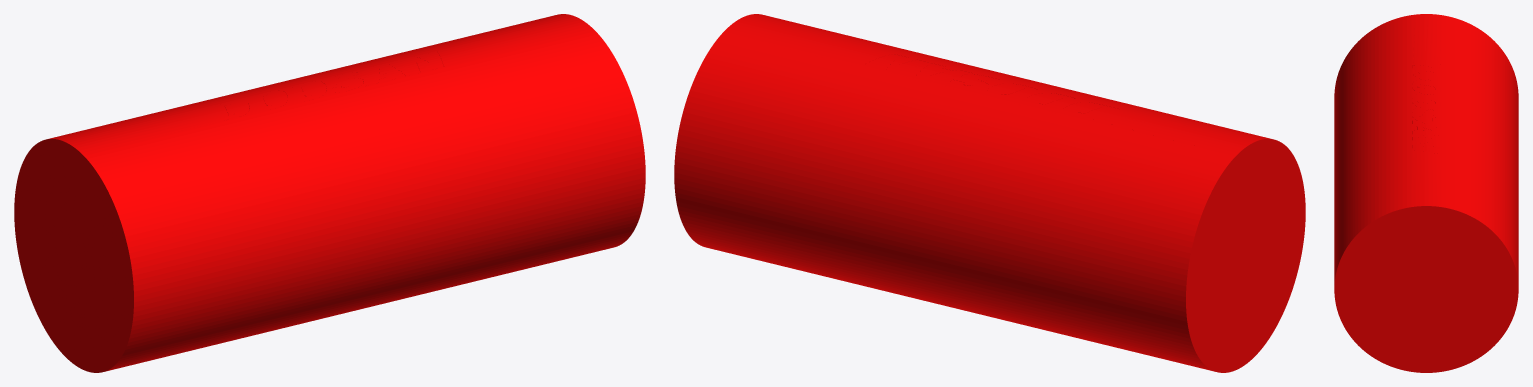
3 renders of one model, left to right at view 1: azimuth 30°, elevation 25°; view 2: azimuth 150°, elevation 25°; view 3: azimuth 270°, elevation 25°, orthographic. The views are drawn at different scales.
Visible parts, largest first — view 1: MF0609_2_1, Doosan_Mark; view 2: MF0609_2_1, Doosan_Mark; view 3: MF0609_2_1, Doosan_Mark.
Boxes of the visible parts, left/top/right/bottom form: MF0609_2_1: left=14, top=14, right=645, bottom=372; Doosan_Mark: left=210, top=51, right=443, bottom=122; MF0609_2_1: left=674, top=14, right=1305, bottom=372; Doosan_Mark: left=865, top=54, right=1119, bottom=119; MF0609_2_1: left=1334, top=14, right=1518, bottom=372; Doosan_Mark: left=1412, top=65, right=1440, bottom=154.
Size of the model in its own units: 0.2466 by 0.1 by 0.1.
